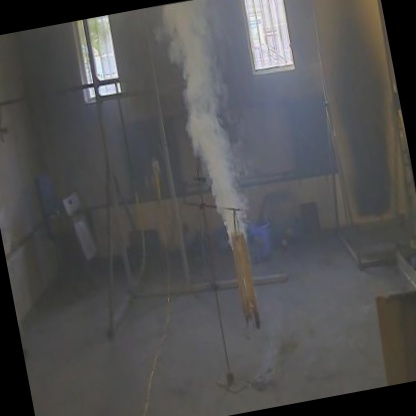smoke: (152, 0, 279, 315)
